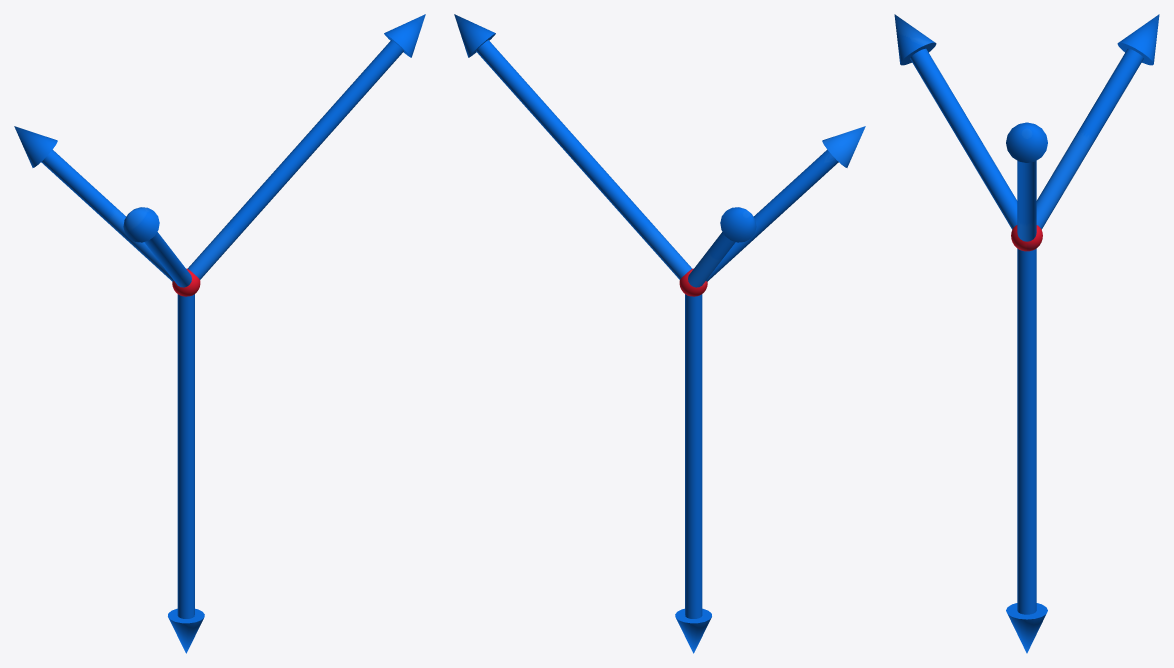
The model's file is jiantou.gltf.
3 renders of one model, left to right at view 1: azimuth 30°, elevation 25°; view 2: azimuth 150°, elevation 25°; view 3: azimuth 270°, elevation 25°, orthographic. The views are drawn at different scales.
Visible parts, largest first — view 1: 对象003; view 2: 对象003; view 3: 对象003.
Boxes of the visible parts, box(x1,y1,x2,y2) form: 对象003: box(14, 14, 425, 653); 对象003: box(454, 14, 865, 653); 对象003: box(894, 14, 1159, 653).
Size of the model in its own units: 40.33 by 63.49 by 23.28.
1 material, 1 textured.
